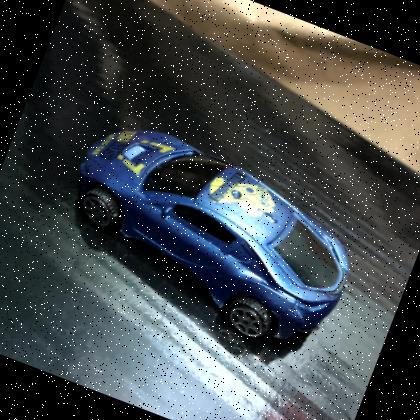Car: (76, 130, 350, 342)
